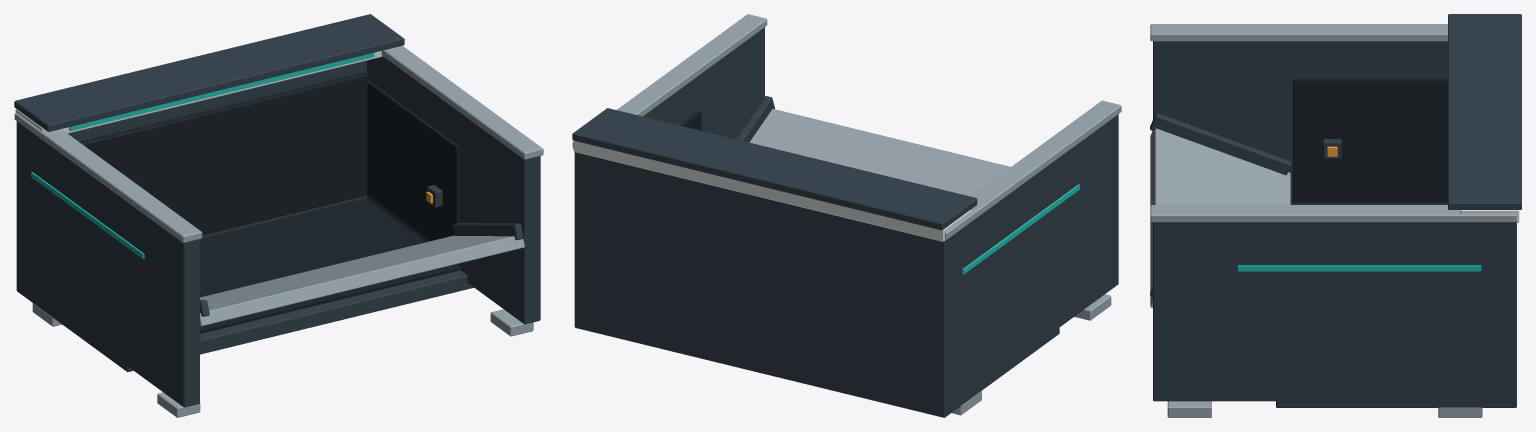
File: BowlingLaneEnd.fbx
The picture shows the model from 3 angles, left to right: view 1: azimuth 30°, elevation 25°; view 2: azimuth 150°, elevation 25°; view 3: azimuth 270°, elevation 25°; orthographic projection. The views are drawn at different scales.
Visible parts, largest first — view 1: SideWall_-1, RearImpactPad, SideWall_1, RearHood, CatchFloorLiner, SideLiner_1, EntryRamp, CatchFloor, BackWall, SideTopCap_-1, SideTopCap_1, BackHeaderAccent (+5 smaller); view 2: BackWall, SideWall_-1, RearHood, EntryRamp, SideWall_1, CatchFloor, BackHeader, SideTopCap_-1, SideTopCap_1, SideAccent_-1, RampEdgeGuide_1; view 3: SideWall_1, SideWall_-1, SideLiner_-1, RearHood, EntryRamp, SideTopCap_1, SideTopCap_-1, RampEdgeGuide_-1, SideAccent_1, CatchFloor, MountFoot_1_0.15, BackWall (+1 smaller).
Part boxes in pixels (<box>): SideWall_-1: <box>17,122,199,407</box>; RearImpactPad: <box>79,72,367,235</box>; SideWall_1: <box>367,56,540,324</box>; RearHood: <box>14,14,404,131</box>; CatchFloorLiner: <box>200,198,460,333</box>; SideLiner_1: <box>367,79,459,240</box>; EntryRamp: <box>200,235,524,326</box>; CatchFloor: <box>16,270,473,372</box>; BackWall: <box>16,60,366,284</box>; SideTopCap_-1: <box>14,113,202,242</box>; SideTopCap_1: <box>381,45,543,159</box>; BackHeaderAccent: <box>69,52,374,131</box>; BackWall: <box>574,152,946,410</box>; SideWall_-1: <box>946,114,1118,409</box>; RearHood: <box>572,108,977,230</box>; EntryRamp: <box>749,109,1010,196</box>; SideWall_1: <box>643,27,764,139</box>; CatchFloor: <box>574,314,1059,417</box>; BackHeader: <box>573,141,971,241</box>; SideTopCap_-1: <box>945,100,1121,239</box>; SideTopCap_1: <box>572,14,767,148</box>; SideAccent_-1: <box>962,184,1079,274</box>; RampEdgeGuide_1: <box>736,96,774,142</box>; SideWall_1: <box>1153,222,1513,401</box>; SideWall_-1: <box>1153,41,1447,204</box>; SideLiner_-1: <box>1293,78,1447,202</box>; RearHood: <box>1448,14,1521,209</box>; EntryRamp: <box>1150,128,1290,308</box>; SideTopCap_1: <box>1150,205,1516,222</box>; SideTopCap_-1: <box>1150,24,1447,41</box>; RampEdgeGuide_-1: <box>1150,113,1290,175</box>; SideAccent_1: <box>1237,265,1481,271</box>; CatchFloor: <box>1276,393,1516,407</box>; MountFoot_1_0.15: <box>1167,401,1211,417</box>; BackWall: <box>1513,222,1516,400</box>.
Bounding box in the file's own units: 184 × 96.75 × 151.
